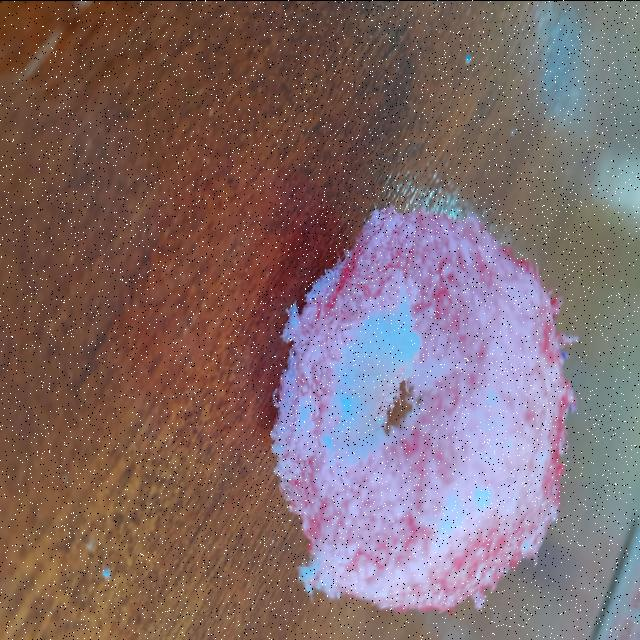wheel: (264, 199, 576, 619)
